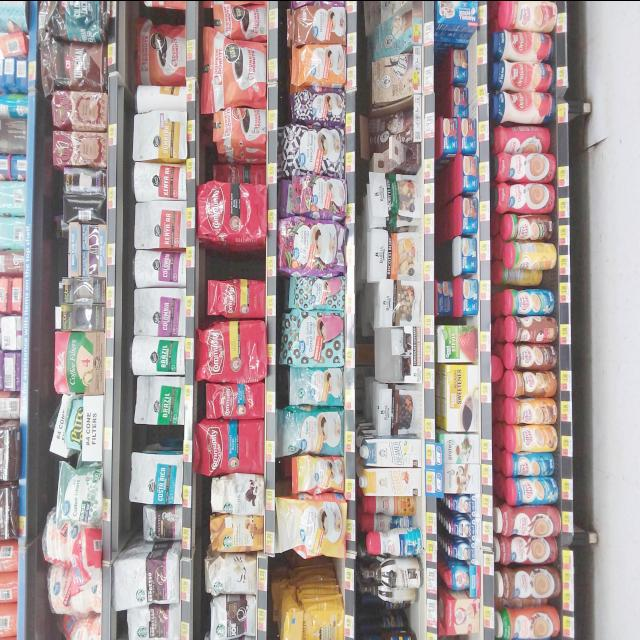empty_space: (201, 247, 261, 273), (366, 607, 420, 629), (281, 561, 339, 581), (136, 427, 180, 445)
